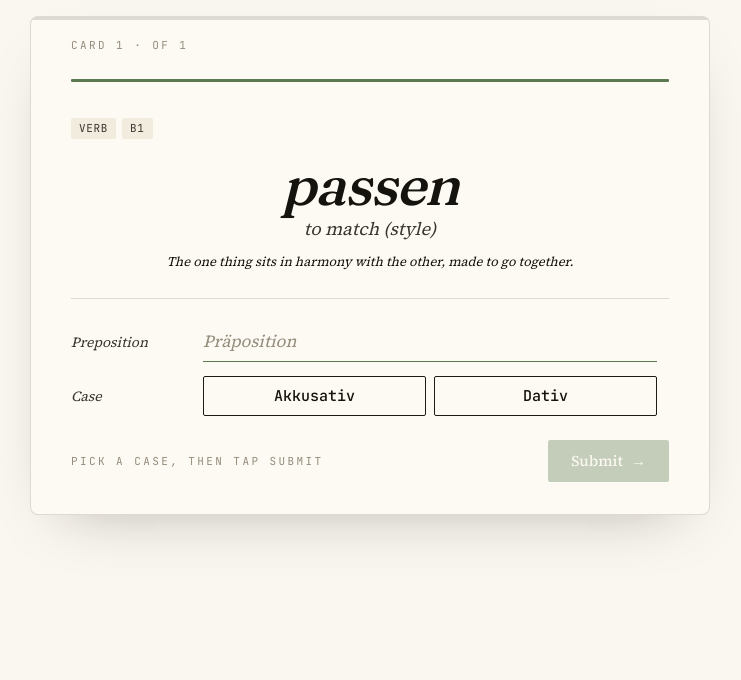
CollocationsRunner — smoke tests › reveals feedback after selecting a case and clicking Submit
Note: Pick Akkusativ
Click the button "Akkusativ" at (314, 396), box [203, 376, 426, 416]
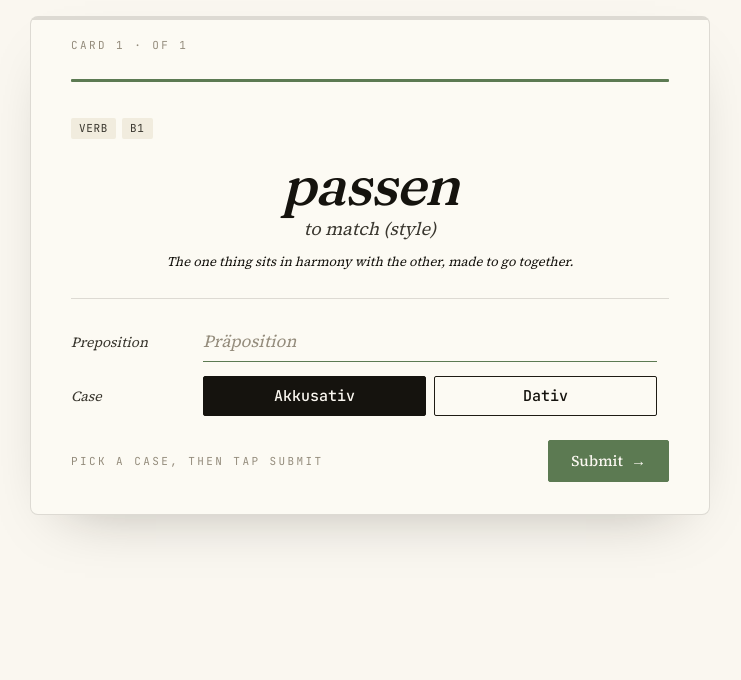
Note: Click Submit
Click the button "Submit →" at (609, 461), box [548, 440, 669, 482]
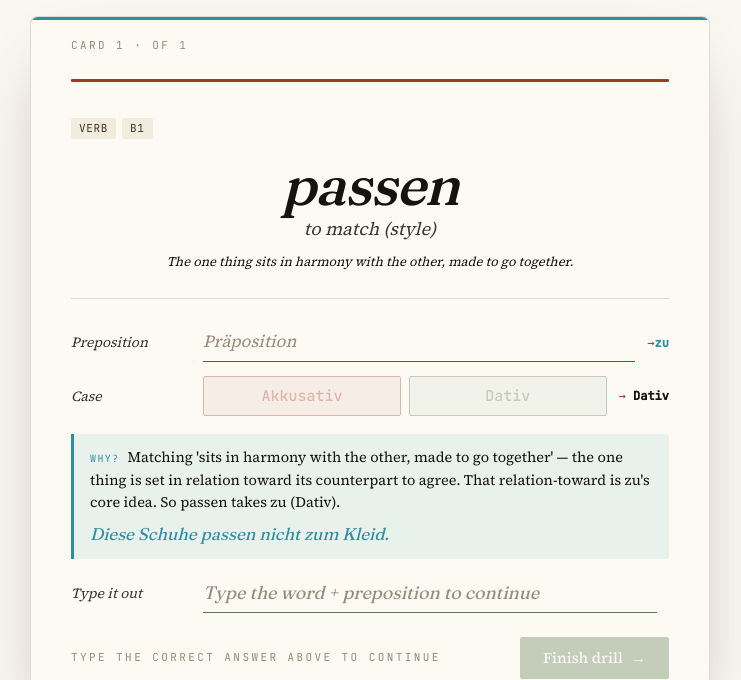
Expected: the element with class "colloc-feedback" showing "→zu" is shown, [647, 334, 669, 354]
